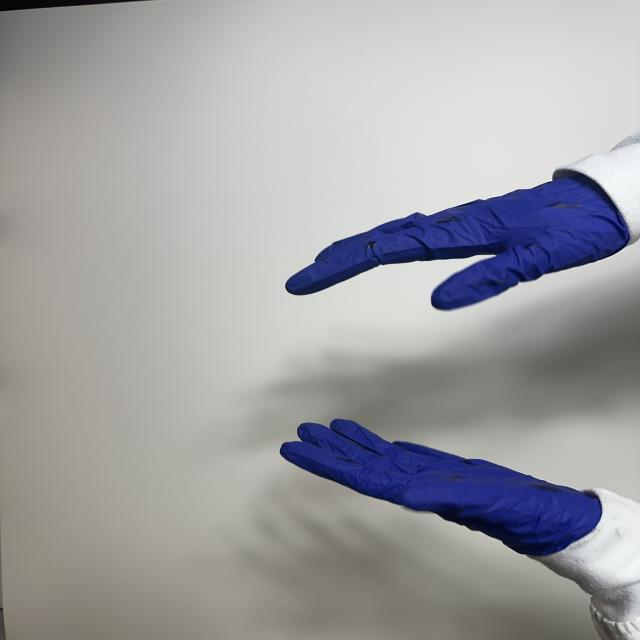gloves_contaminated: (261, 174, 640, 314), (271, 411, 608, 559)
